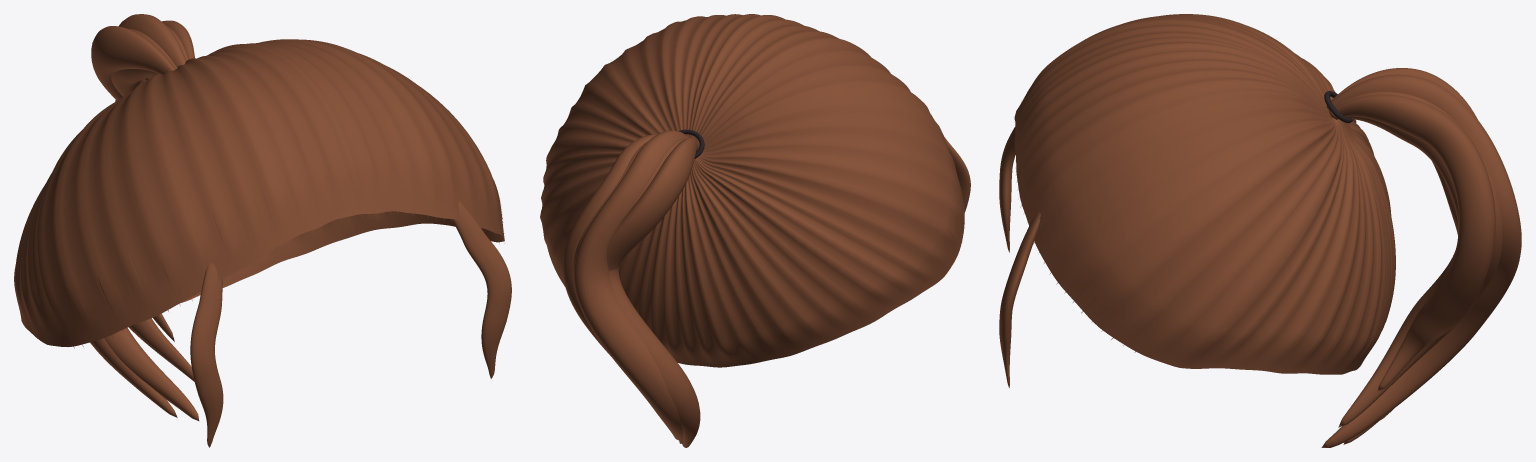
Rendered from Feminine-ponytail-hair.glb.
The picture shows the model from 3 angles, left to right: view 1: azimuth 30°, elevation 25°; view 2: azimuth 150°, elevation 25°; view 3: azimuth 270°, elevation 25°; orthographic projection. The views are drawn at different scales.
Visible parts, largest first — view 1: Hair / swept roots218, Hair / adjustable front216 -1, Hair / adjustable front216 1, Hair / brushed edge218, Hair / rounded tail218 2, Hair / rounded tail218 0, Hair / rounded tail218 1, Hair / rounded tail218 3, Hair / rounded tail218 4; view 2: Hair / swept roots218, Hair / rounded tail218 2, Hair / rounded tail218 0, Hair / rounded tail218 1, Hair / rounded tail218 4, Hair / adjustable front216 -1; view 3: Hair / swept roots218, Hair / rounded tail218 4, Hair / rounded tail218 2, Hair / rounded tail218 3, Hair / adjustable front216 1, Hair / brushed edge218, Hair / adjustable front216 -1, Hair / rounded tail218 0.
Part boxes in pixels (x1=…): Hair / swept roots218: x1=14, y1=39, x2=504, y2=346; Hair / adjustable front216 -1: x1=190, y1=263, x2=223, y2=447; Hair / adjustable front216 1: x1=452, y1=201, x2=511, y2=378; Hair / brushed edge218: x1=50, y1=149, x2=504, y2=348; Hair / rounded tail218 2: x1=104, y1=14, x2=199, y2=420; Hair / rounded tail218 0: x1=91, y1=26, x2=174, y2=100; Hair / rounded tail218 1: x1=90, y1=29, x2=177, y2=417; Hair / rounded tail218 3: x1=128, y1=26, x2=194, y2=381; Hair / rounded tail218 4: x1=153, y1=20, x2=194, y2=341; Hair / swept roots218: x1=540, y1=14, x2=964, y2=367; Hair / rounded tail218 2: x1=573, y1=130, x2=688, y2=440; Hair / rounded tail218 0: x1=606, y1=138, x2=699, y2=443; Hair / rounded tail218 1: x1=609, y1=139, x2=700, y2=447; Hair / rounded tail218 4: x1=562, y1=134, x2=657, y2=355; Hair / adjustable front216 -1: x1=944, y1=137, x2=970, y2=212; Hair / swept roots218: x1=1014, y1=14, x2=1395, y2=374; Hair / rounded tail218 4: x1=1329, y1=94, x2=1495, y2=392; Hair / rounded tail218 2: x1=1321, y1=74, x2=1521, y2=447; Hair / rounded tail218 3: x1=1329, y1=91, x2=1502, y2=427; Hair / adjustable front216 1: x1=999, y1=212, x2=1040, y2=387; Hair / brushed edge218: x1=1014, y1=74, x2=1174, y2=352; Hair / adjustable front216 -1: x1=999, y1=127, x2=1015, y2=252; Hair / rounded tail218 0: x1=1331, y1=68, x2=1477, y2=422.
Bounding box in the file's own units: 0.9678 × 0.8827 × 1.01.
